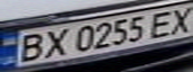0: (72, 23, 96, 53)
2: (93, 19, 115, 51)
5: (127, 12, 154, 43), (112, 16, 133, 47)
B: (9, 30, 48, 64)
E: (145, 8, 181, 39)
X: (36, 26, 72, 60), (163, 5, 193, 35)
